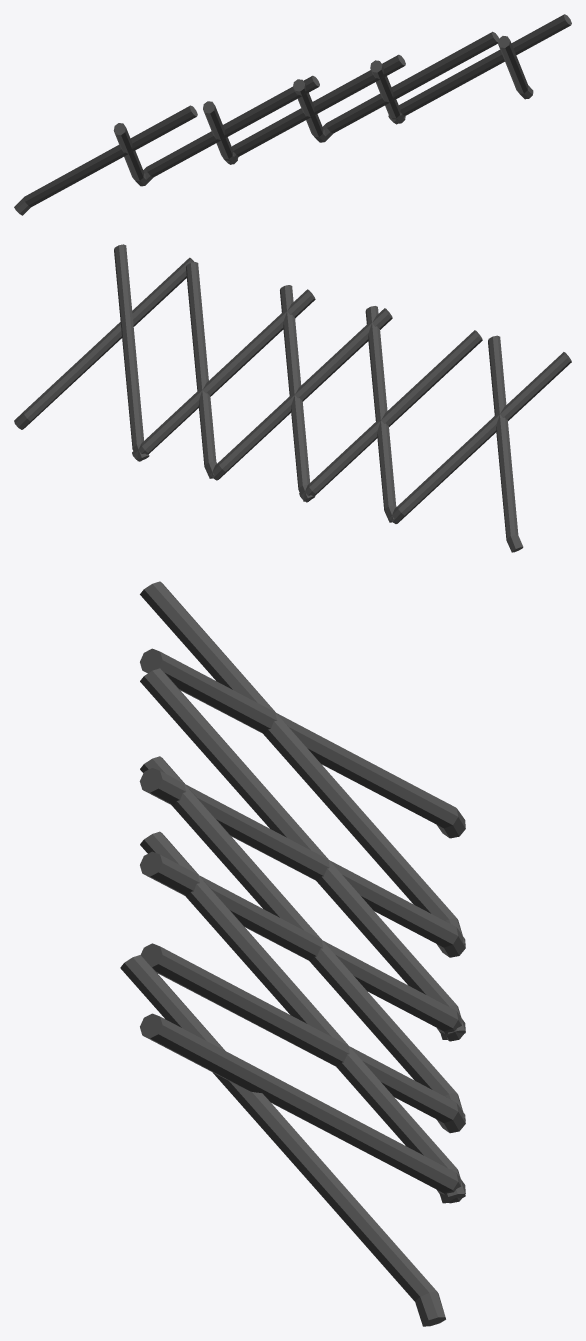
Rendered from frontwindowbar.fbx.
The picture shows the model from 3 angles, top to bottom: view 1: azimuth 30°, elevation 25°; view 2: azimuth 150°, elevation 25°; view 3: azimuth 270°, elevation 25°; orthographic projection. The views are drawn at different scales.
Parts seen in each view (by area): view 1: Cylinder.015; view 2: Cylinder.015; view 3: Cylinder.015.
Boxes of the visible parts, bbox=[...] form: Cylinder.015: bbox=[14, 14, 571, 215]; Cylinder.015: bbox=[14, 244, 571, 552]; Cylinder.015: bbox=[120, 581, 465, 1326].
Bounding box in the file's own units: 158 × 41.76 × 46.23.
1 material, 1 textured.
